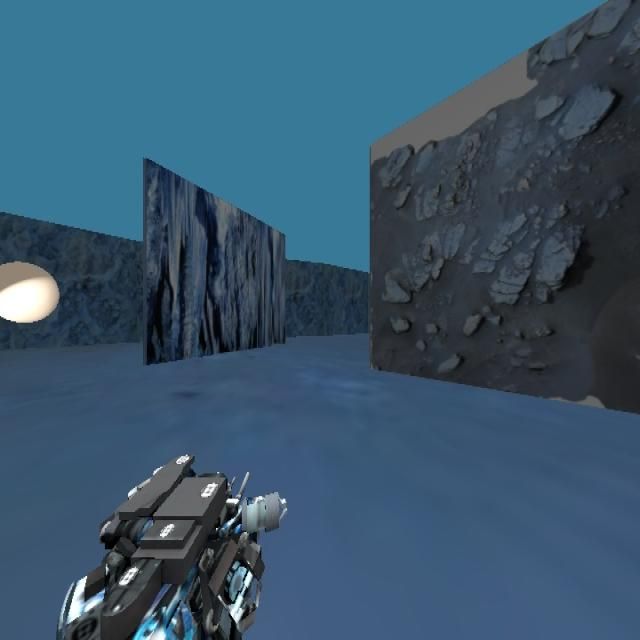Circle: (0, 259, 60, 324)
